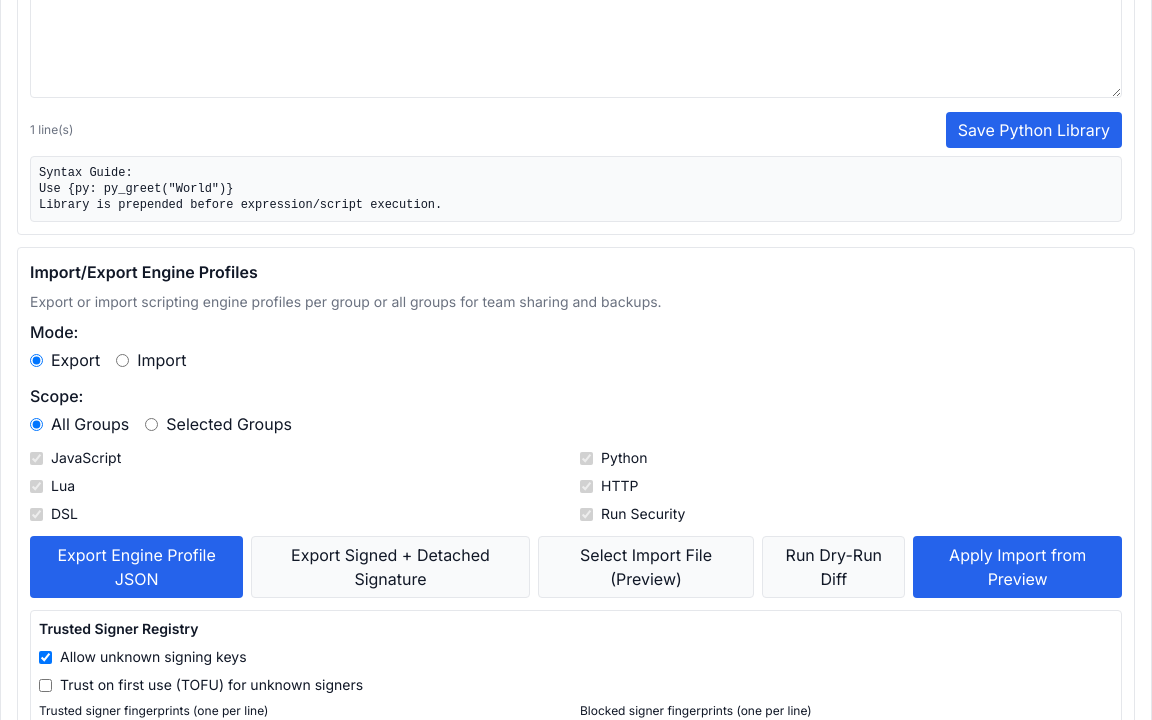
it: ScriptTab sub-tabs › runs engine profile dry-run diff preview
(page scrolled)
Click the radio button labelled "Import" at (123, 360), box [116, 354, 129, 366]
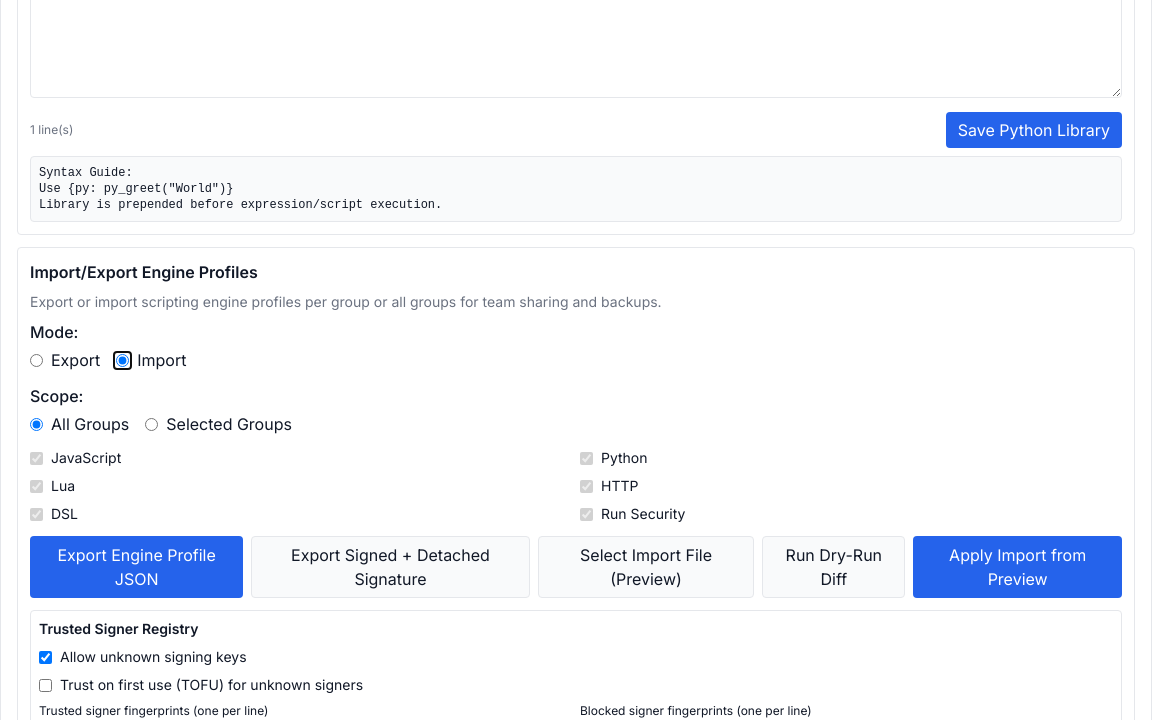
Click the button "Select Import File (Preview)" at (646, 567), box [538, 536, 754, 598]
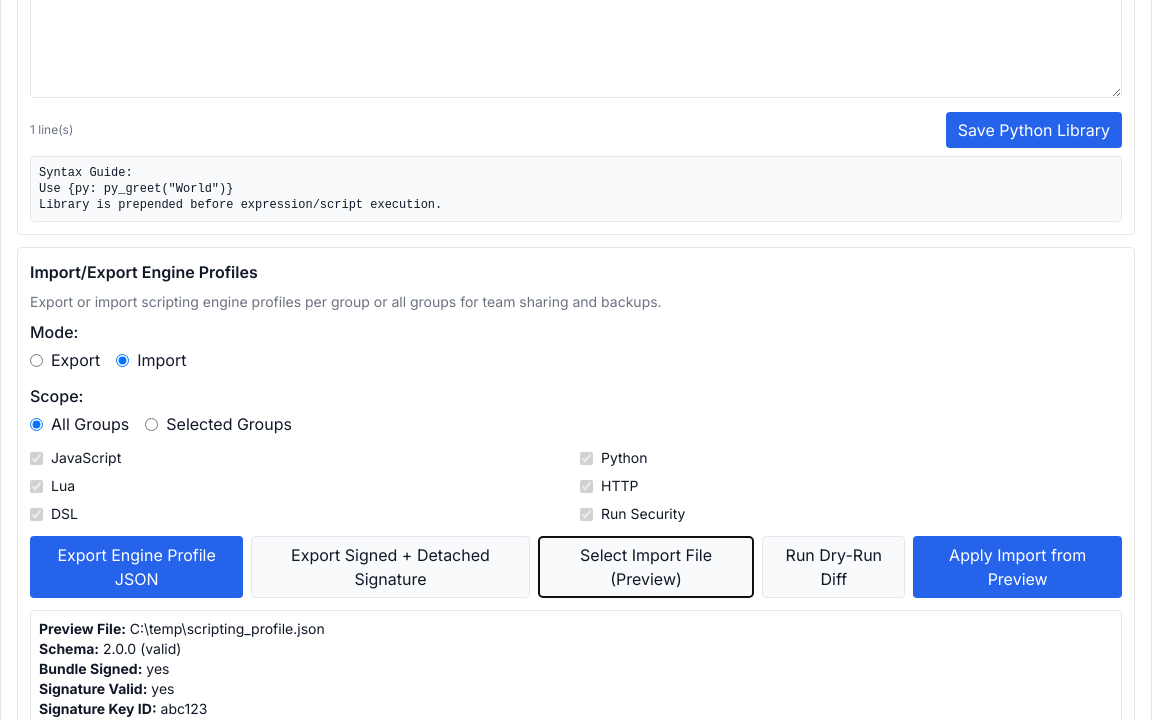
Click the button "Run Dry-Run Diff" at (834, 567), box [762, 536, 905, 598]
(page scrolled)
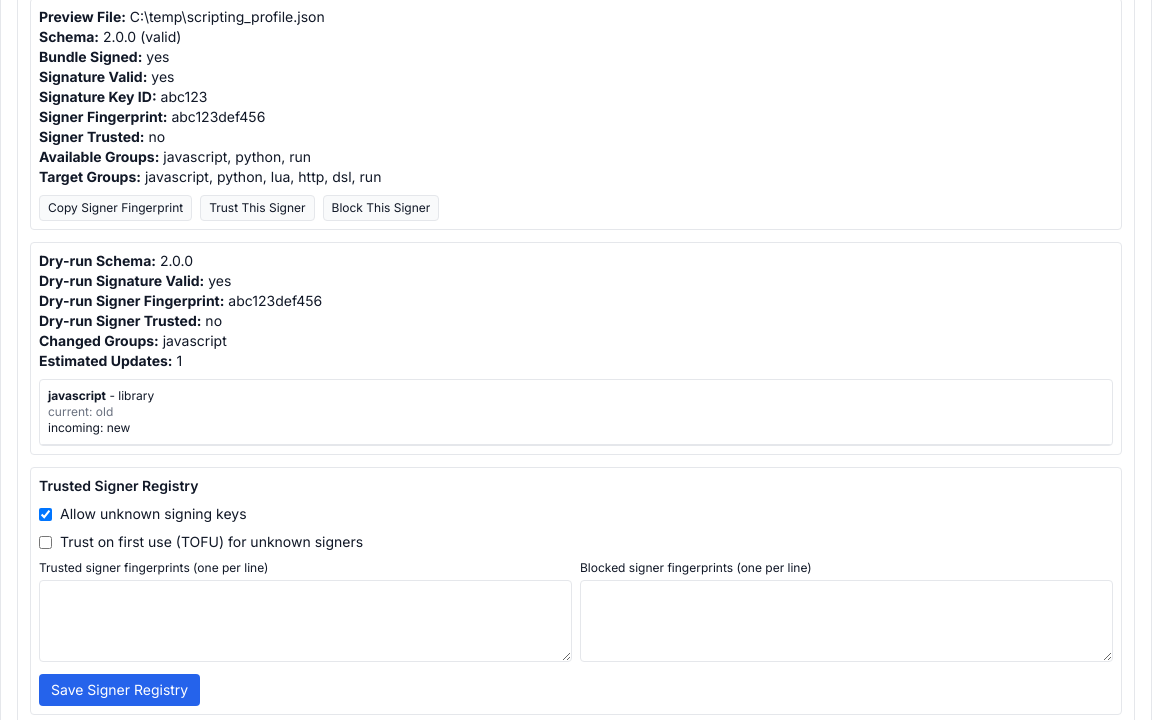
Now the text "Estimated Updates:" is shown, box [39, 352, 172, 369]
